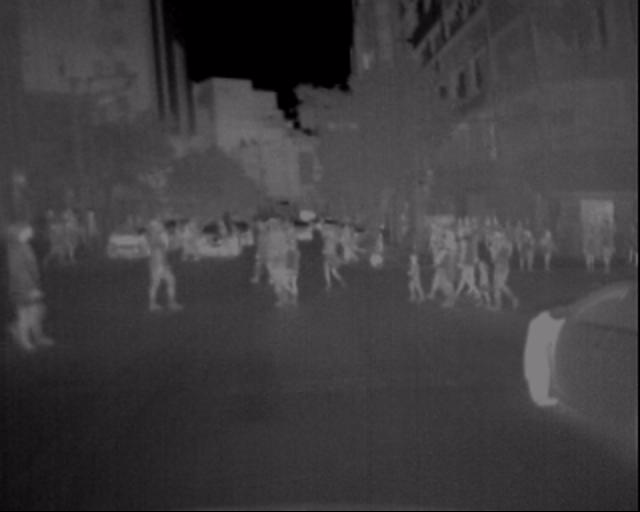person: (135, 217, 193, 323), (435, 217, 532, 277), (167, 208, 242, 274), (335, 213, 402, 275), (311, 219, 354, 292), (478, 220, 511, 310), (269, 219, 300, 314), (439, 224, 469, 307), (249, 216, 279, 291), (396, 247, 422, 301)
